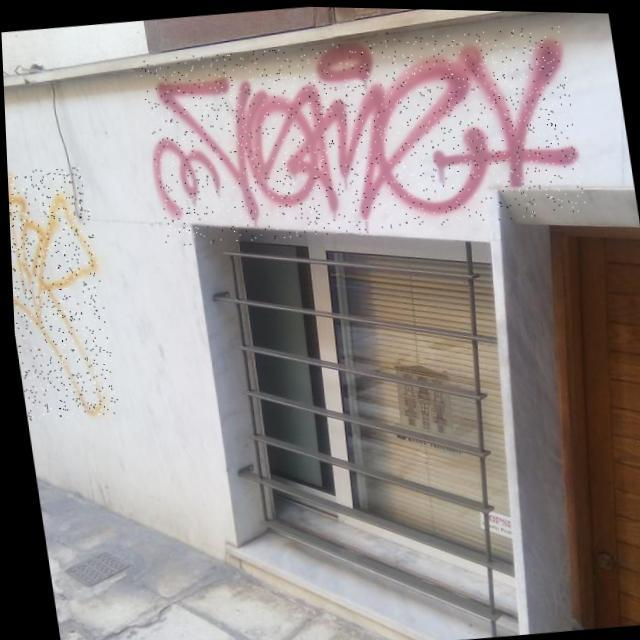-: (136, 15, 586, 254), (5, 164, 116, 422)
